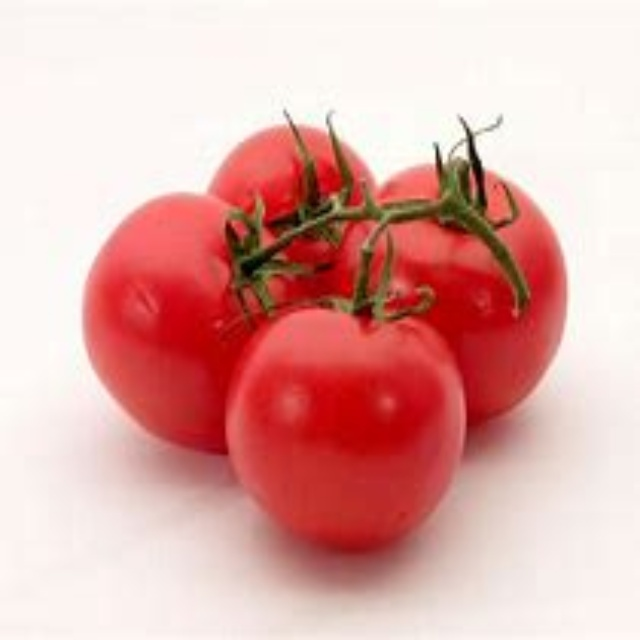tomato: (81, 194, 314, 461), (227, 306, 470, 549), (356, 166, 570, 423), (221, 117, 378, 289)
